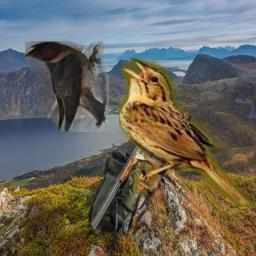Sparrow: (119, 57, 255, 207)
Swallow: (25, 41, 109, 132)
